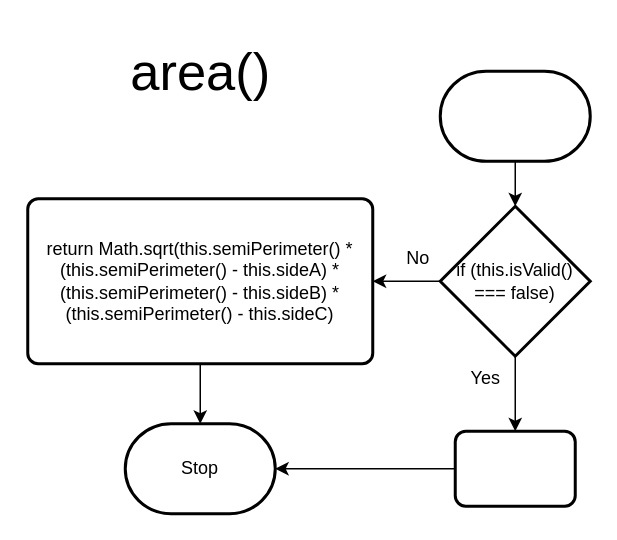
This 617x540 diagram has some shape labels left out. Each missing label, with the centre of its shape:
"return -1" goes at point (514, 468).
"Start" goes at point (514, 115).
